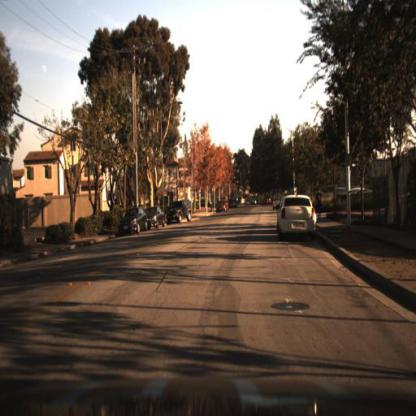car: (276, 196, 318, 242), (121, 204, 151, 235), (168, 200, 193, 224), (145, 207, 165, 231)
pedestrian: (317, 191, 324, 221)
